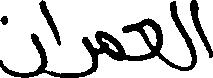X: (0, 0, 39, 77), (126, 13, 164, 66), (171, 0, 191, 75), (96, 21, 124, 74), (41, 0, 60, 77), (62, 32, 94, 77), (193, 0, 212, 72)
